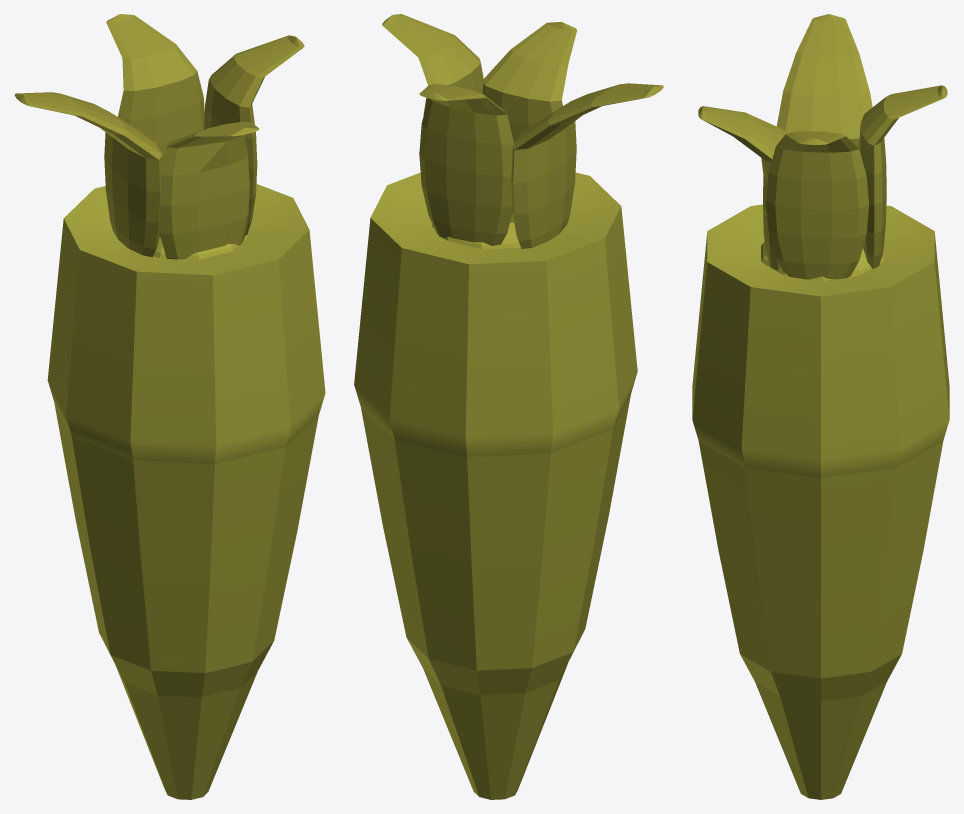
The model's file is GoldenCarrot.fbx.
3 views of the same model, side by side, from view 1: azimuth 30°, elevation 25°; view 2: azimuth 150°, elevation 25°; view 3: azimuth 270°, elevation 25° (orthographic). The views are drawn at different scales.
Visible parts, largest first — view 1: pCylinder1, pSphere2, pSphere5, pSphere1, pSphere4, pSphere6; view 2: pCylinder1, pSphere5, pSphere1, pSphere2, pSphere4, pSphere6; view 3: pCylinder1, pSphere4, pSphere1, pSphere5, pSphere2, pSphere6.
Boxes of the visible parts, x1=… form: pCylinder1: x1=47, y1=184, x2=325, y2=799; pSphere2: x1=159, y1=121, x2=259, y2=259; pSphere5: x1=106, y1=14, x2=204, y2=160; pSphere1: x1=14, y1=92, x2=162, y2=257; pSphere4: x1=204, y1=35, x2=304, y2=235; pSphere6: x1=153, y1=235, x2=247, y2=259; pCylinder1: x1=354, y1=172, x2=637, y2=799; pSphere5: x1=419, y1=84, x2=514, y2=245; pSphere1: x1=511, y1=83, x2=663, y2=248; pSphere2: x1=482, y1=22, x2=576, y2=141; pSphere4: x1=382, y1=14, x2=484, y2=114; pSphere6: x1=432, y1=222, x2=520, y2=249; pCylinder1: x1=692, y1=204, x2=949, y2=799; pSphere4: x1=766, y1=131, x2=868, y2=279; pSphere1: x1=776, y1=14, x2=872, y2=147; pSphere5: x1=858, y1=85, x2=947, y2=268; pSphere2: x1=698, y1=106, x2=787, y2=270; pSphere6: x1=761, y1=242, x2=883, y2=281.
Size of the model in its own units: 1.96 by 4.83 by 1.6.
